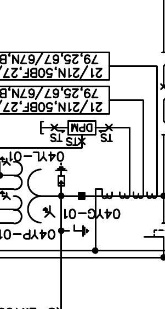115_gs: (68, 224, 90, 238)
115_la: (55, 162, 68, 187)
DPM: (68, 120, 97, 136)
